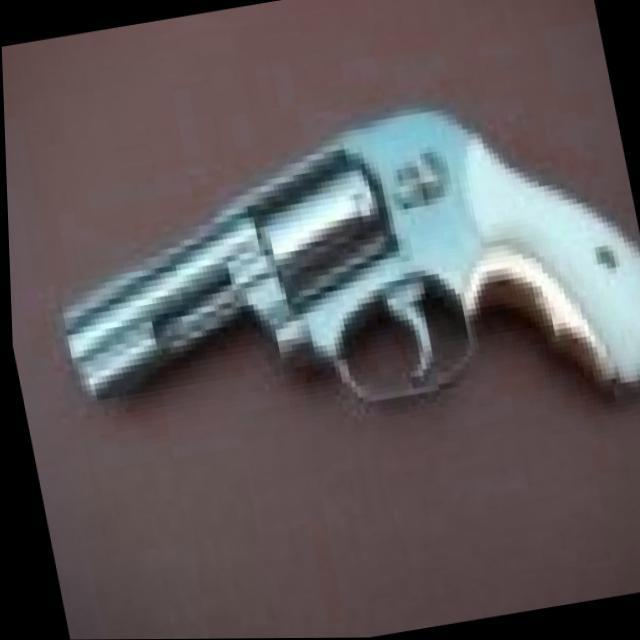weapon: (21, 71, 640, 484)
